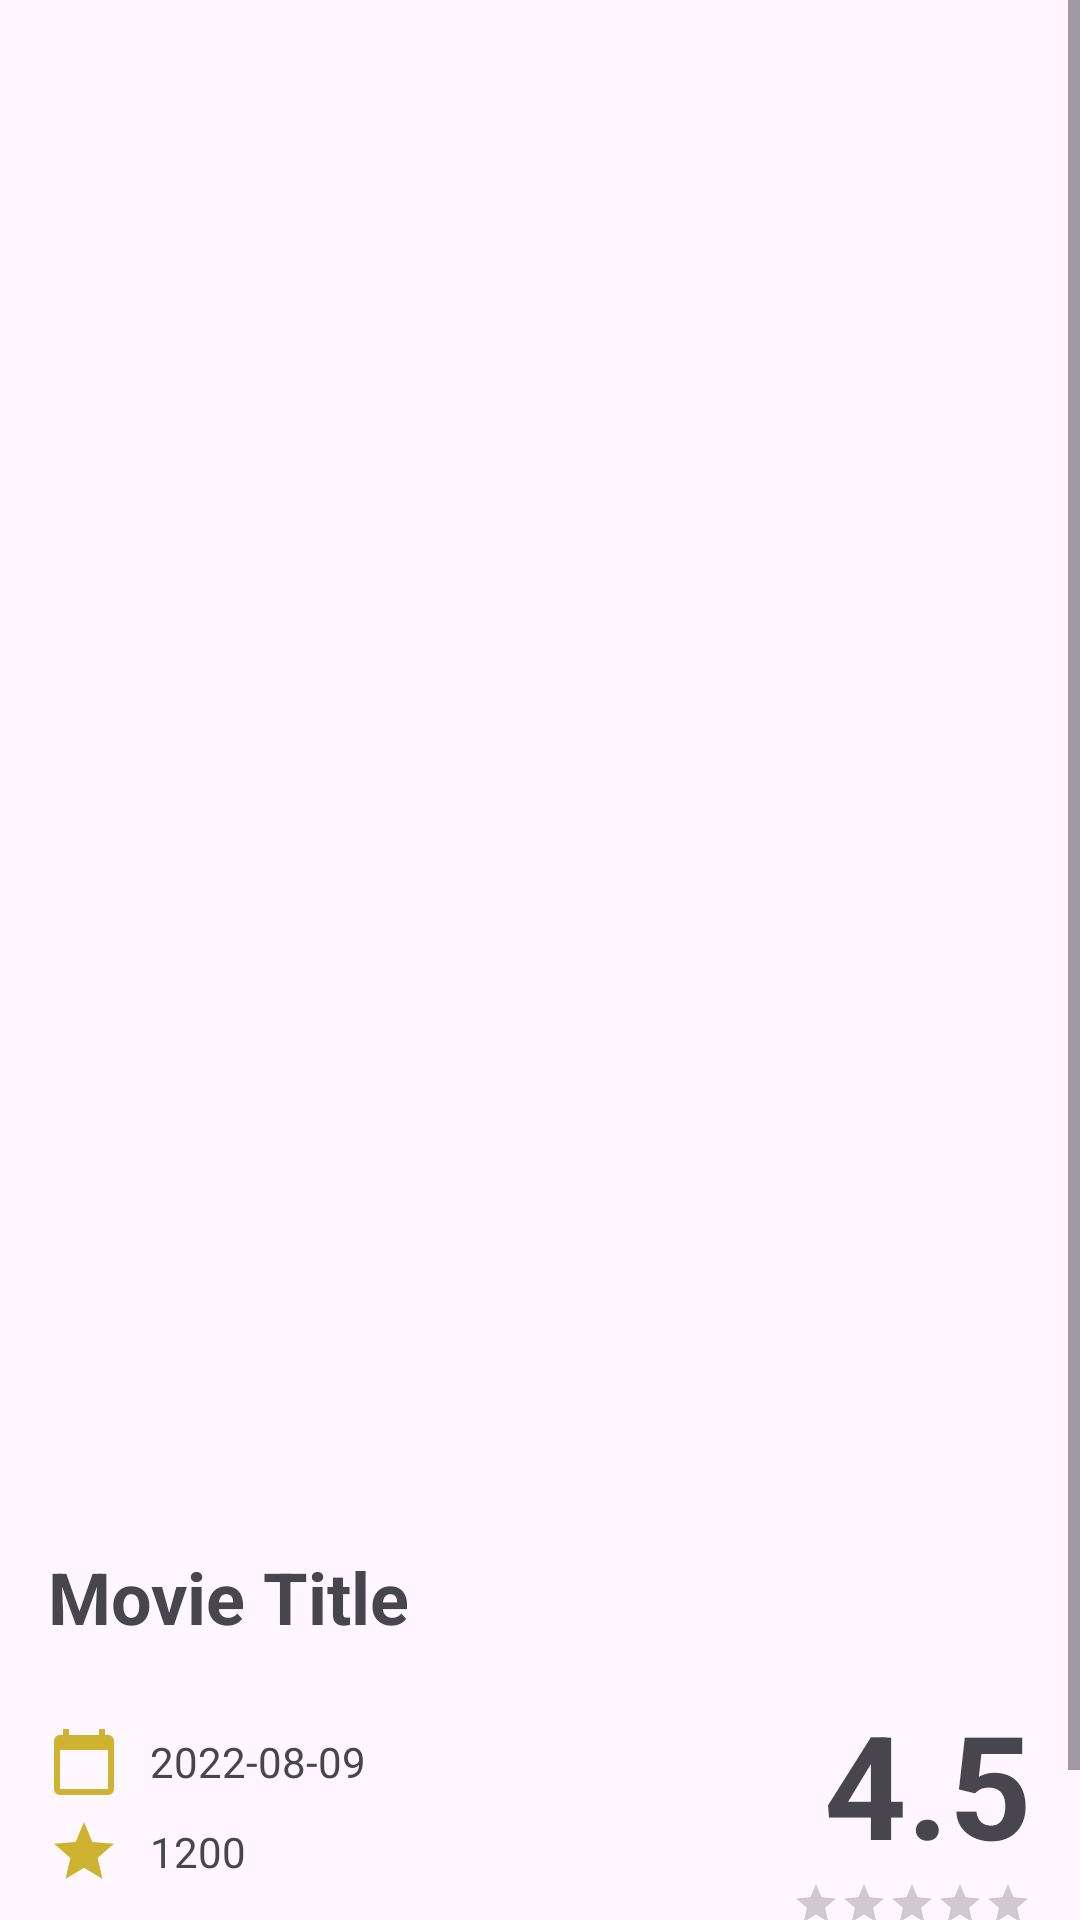

Where to tap for icons on this 1080w x 1920h app screen, as point (x, y):
calendar: point (84, 1762)
star: point (84, 1850)
